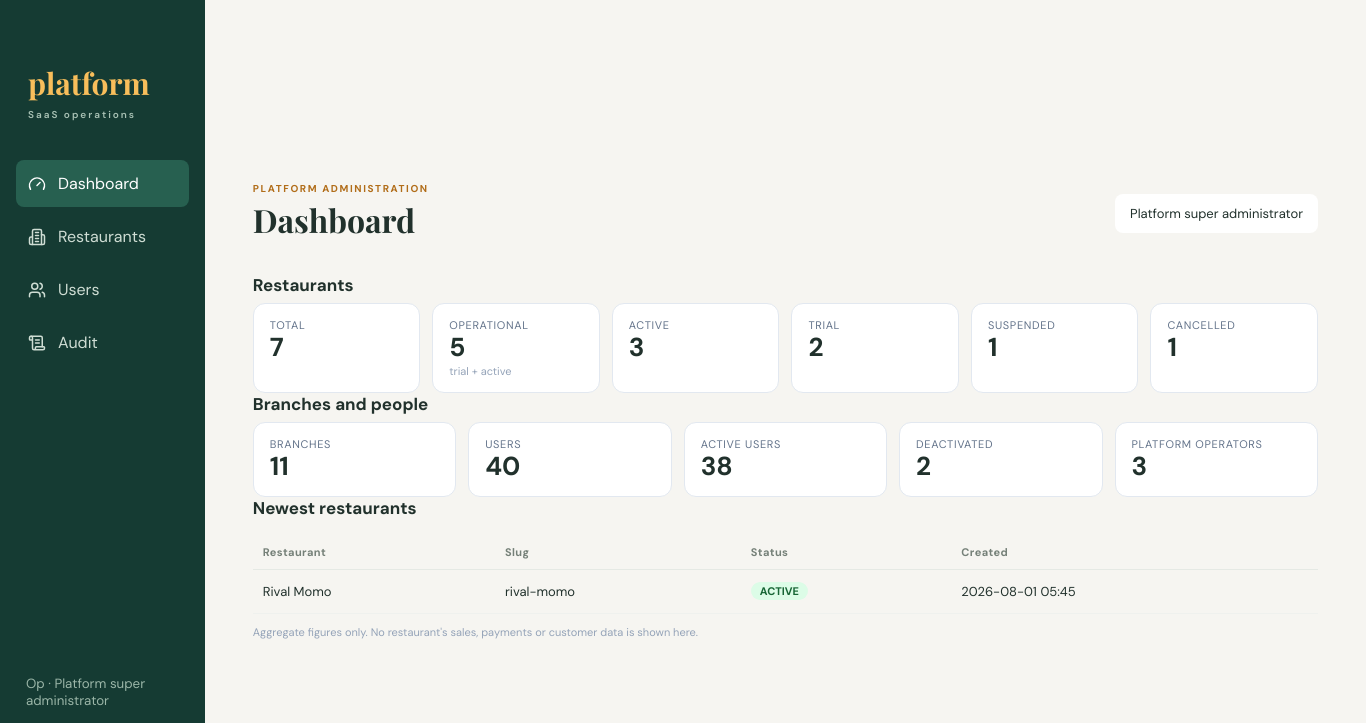
it: P2B UI · audit › renders platform actions with actor, reason and change
(page scrolled)
Step 1. Click the button "Audit" → (102, 342), box x1=16 y1=319 x2=189 y2=366
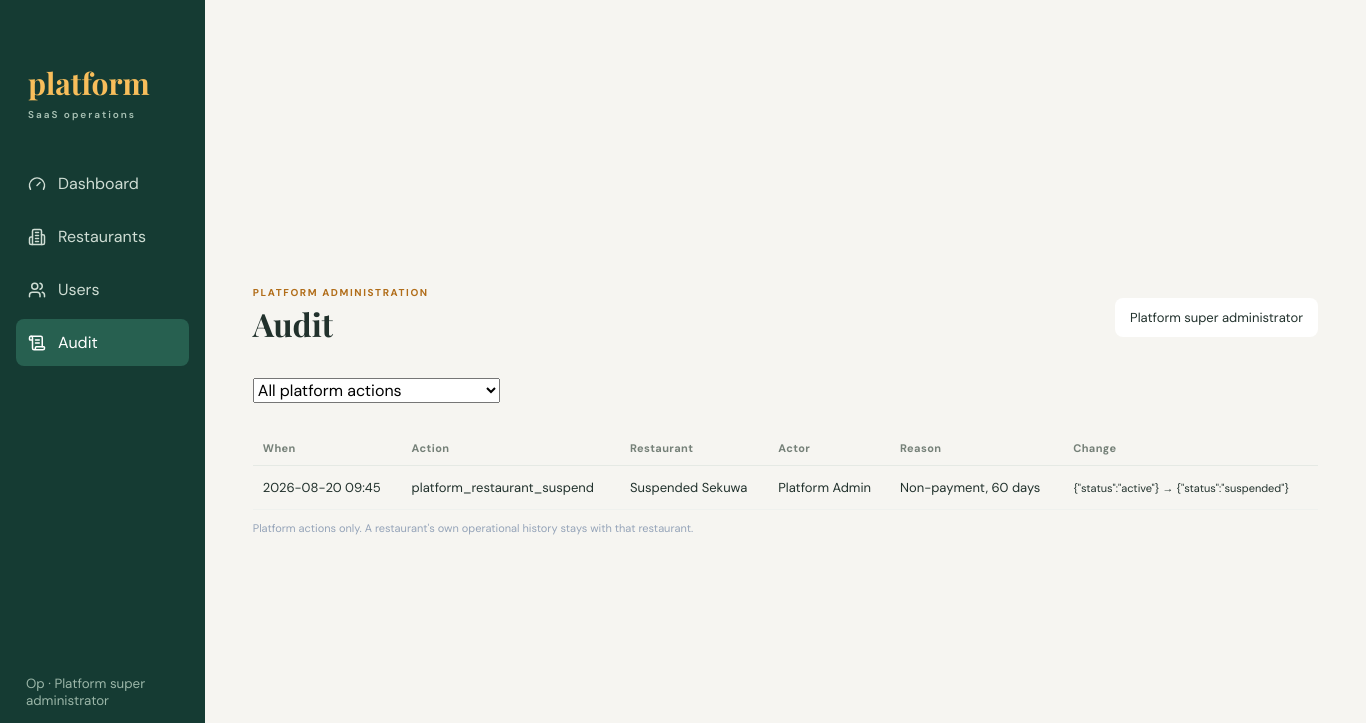
Check: the text "Suspended Sekuwa" is shown, box x1=620 y1=466 x2=768 y2=510
Check: the text "platform_restaurant_suspend" is shown, box x1=402 y1=466 x2=620 y2=510
Check: the text "Non-payment, 60 days" is shown, box x1=890 y1=466 x2=1063 y2=510
